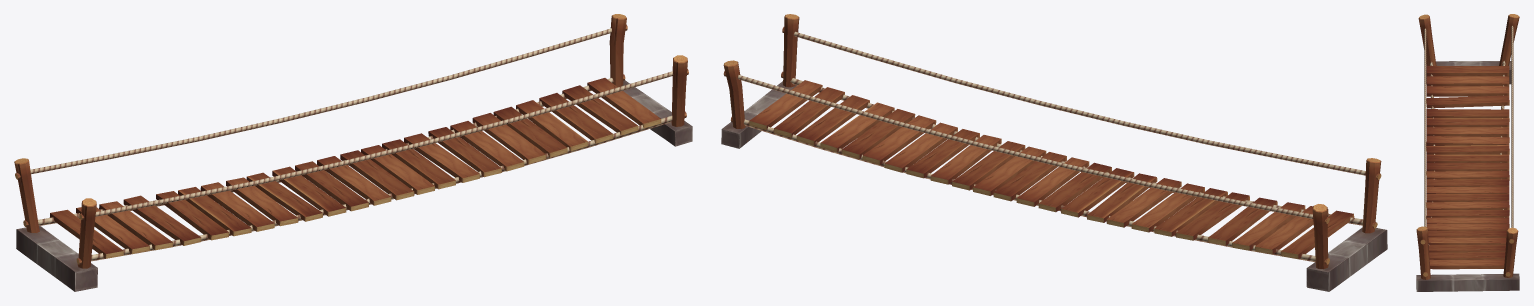
File: ropebridge.fbx
3 views of the same model, side by side, from view 1: azimuth 30°, elevation 25°; view 2: azimuth 150°, elevation 25°; view 3: azimuth 270°, elevation 25° (orthographic). The views are drawn at different scales.
Parts seen in each view (by area): view 1: pCylinder8; view 2: pCylinder8; view 3: pCylinder8.
Boxes of the visible parts, bbox=[...] form: pCylinder8: bbox=[14, 14, 692, 291]; pCylinder8: bbox=[721, 14, 1387, 291]; pCylinder8: bbox=[1416, 14, 1519, 291].
Bounding box in the file's own units: 99.9 × 13.87 × 19.85.
1 material, 1 textured.
